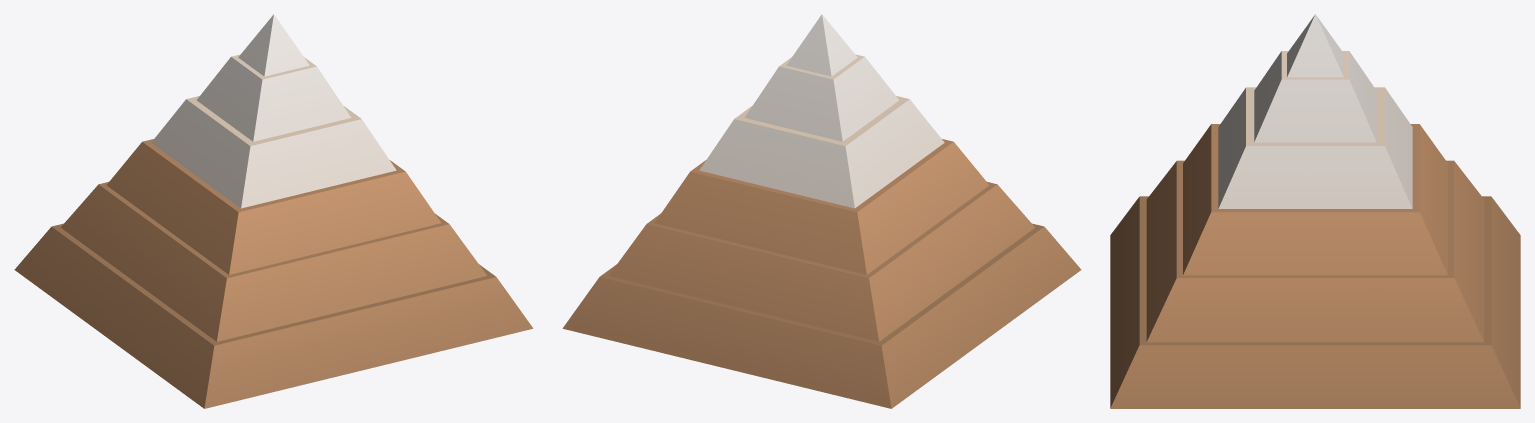
3 views of the same model, side by side, from view 1: azimuth 30°, elevation 25°; view 2: azimuth 150°, elevation 25°; view 3: azimuth 270°, elevation 25° (orthographic). The views are drawn at different scales.
Visible parts, largest first — view 1: pyramid 2; view 2: pyramid 2; view 3: pyramid 2.
Part boxes in pixels (x1,y1,x2,y2): pyramid 2: [14, 14, 533, 408]; pyramid 2: [562, 14, 1081, 408]; pyramid 2: [1110, 14, 1520, 408].
Size of the model in its own units: 1996 by 1654 by 1996.
